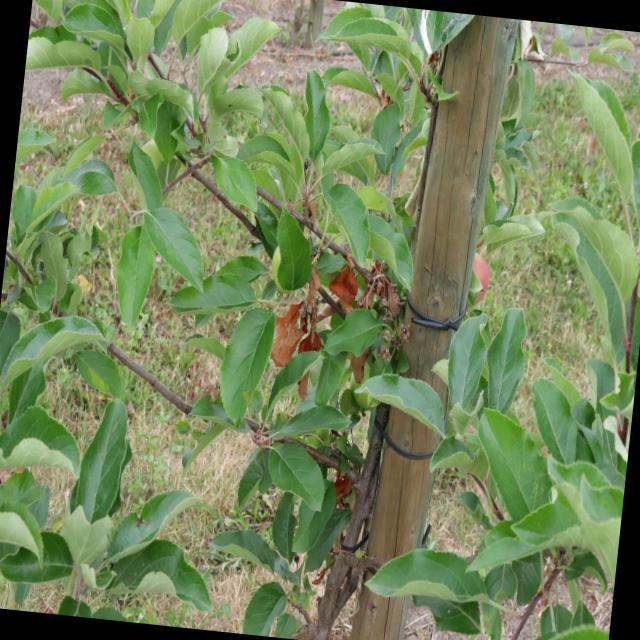-FireBlight-: (291, 274, 329, 354), (358, 255, 402, 322), (265, 306, 300, 364), (323, 258, 357, 311), (330, 468, 349, 509), (292, 369, 314, 396), (351, 354, 364, 378)
